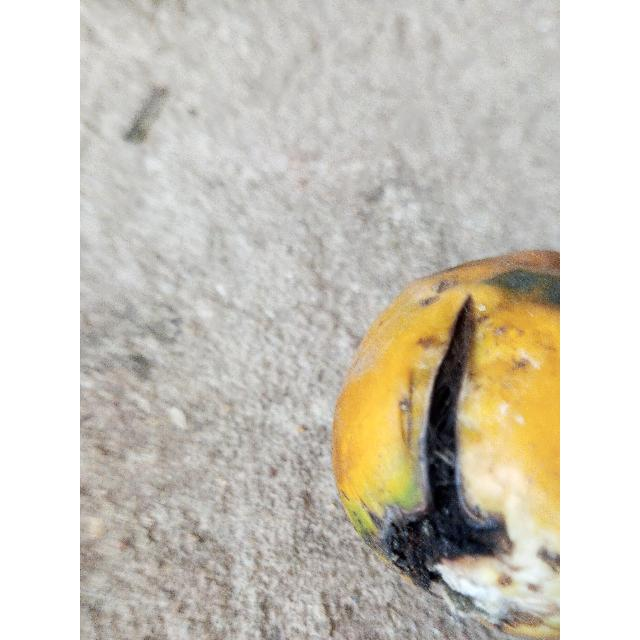damaged: (333, 251, 560, 638)
